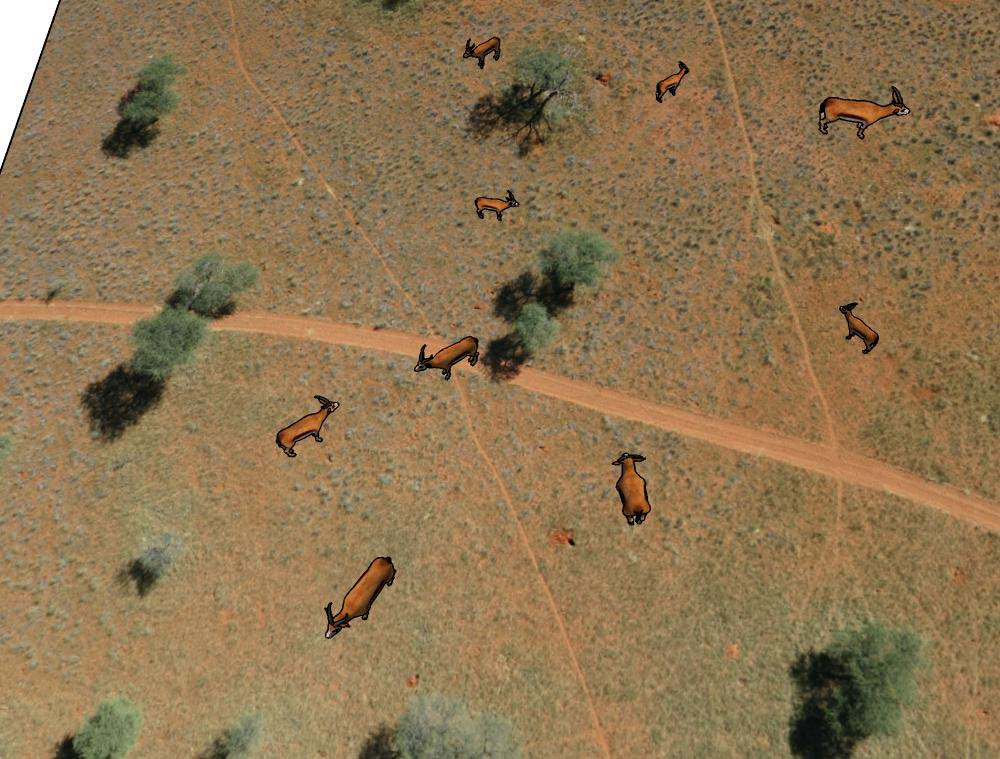springbok: (316, 556, 399, 635), (814, 87, 911, 140), (274, 395, 343, 460), (409, 327, 483, 387), (611, 451, 652, 530), (834, 297, 887, 357), (651, 60, 694, 105), (470, 186, 520, 222), (453, 32, 508, 64)
